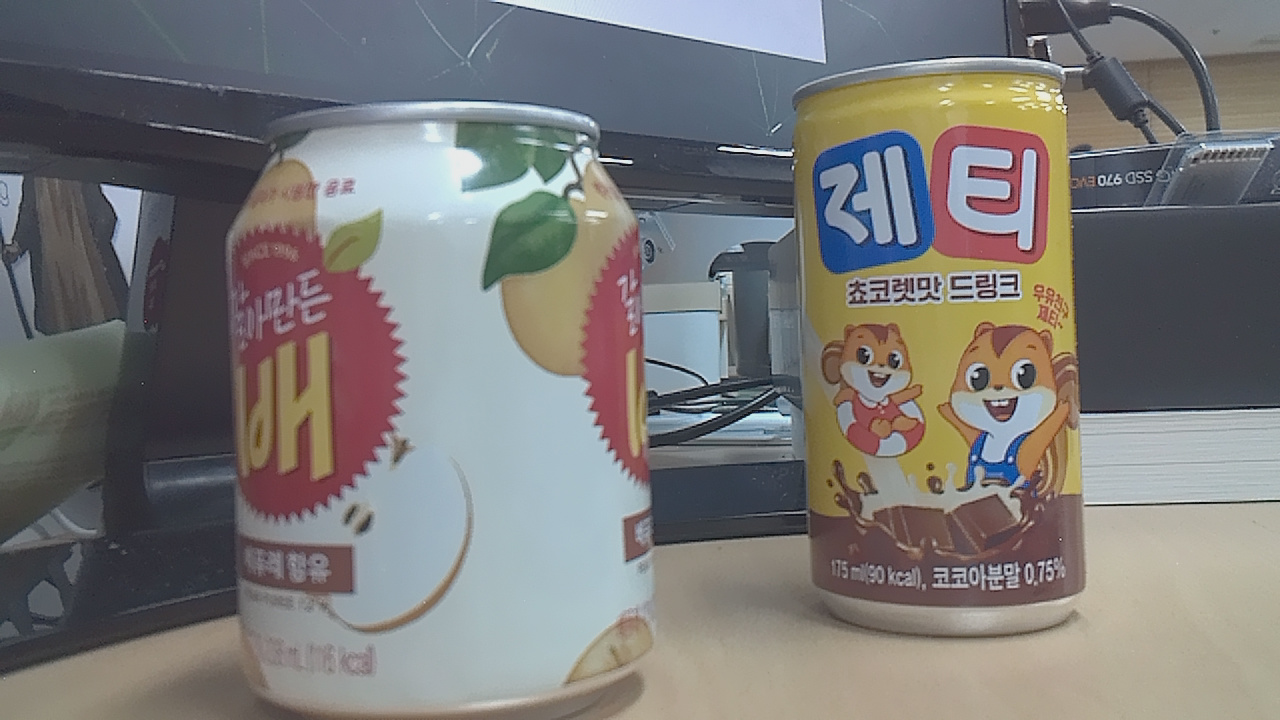IdH (pear juice): (220, 98, 671, 720)
jetty: (794, 44, 1093, 651)
